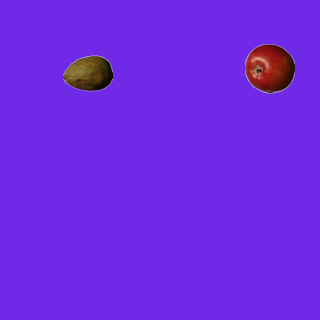Apple Braeburn: (244, 43, 294, 93)
Papaya: (62, 48, 112, 98)
